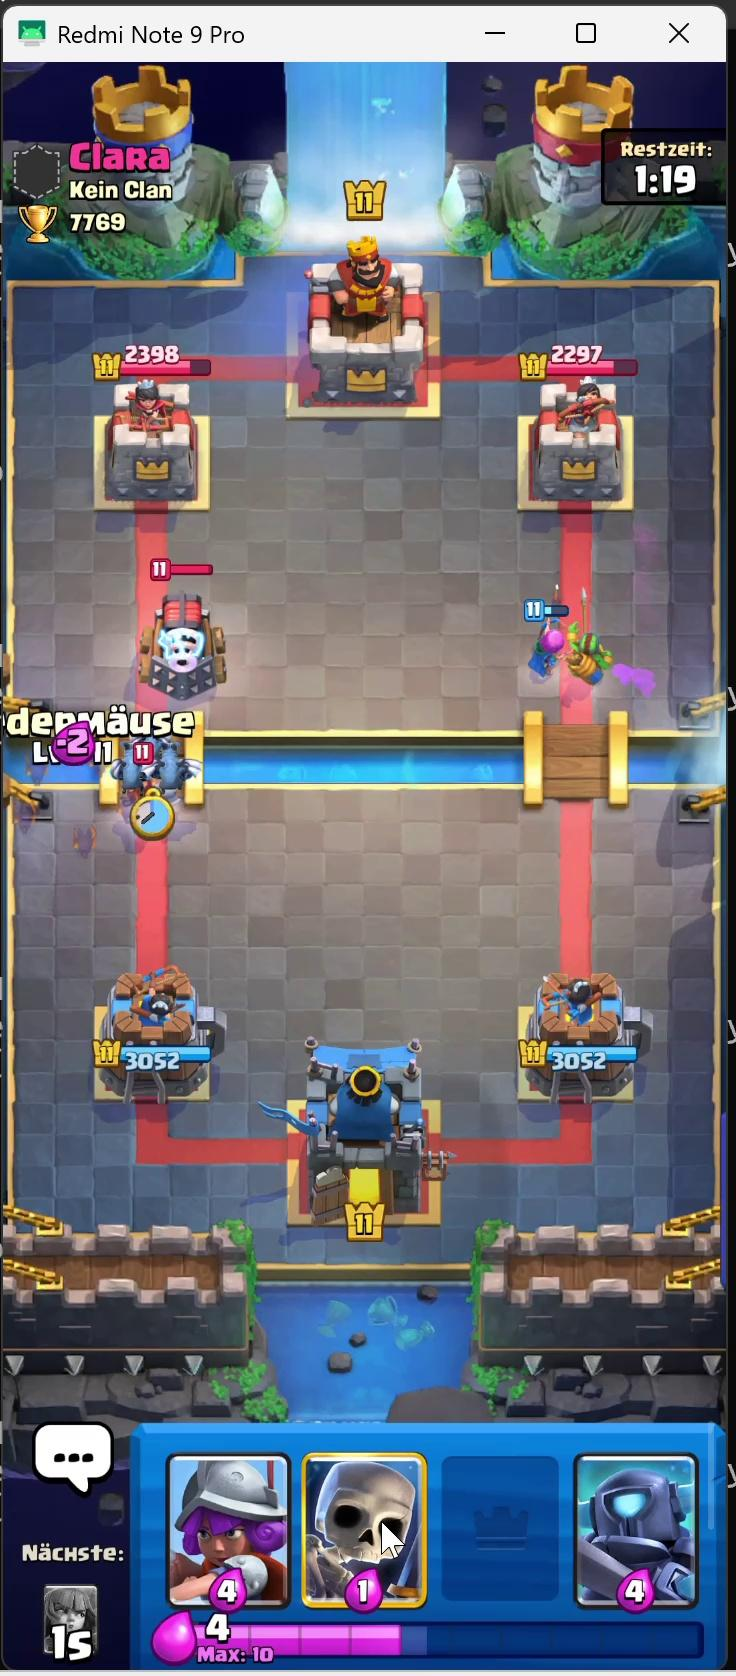archere: (529, 620, 575, 677)
gargouille: (159, 741, 197, 789), (116, 748, 145, 795), (138, 726, 165, 767)
gobelin_lances: (571, 631, 620, 685)
valkyrie: (131, 769, 176, 838)
zappy: (146, 589, 222, 703)
